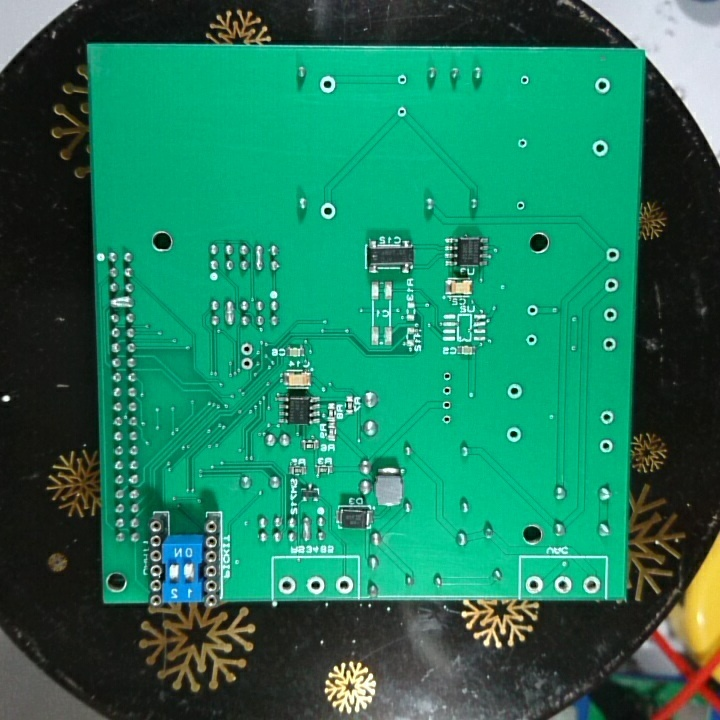F: (593, 75, 616, 100), (316, 74, 339, 98), (588, 138, 613, 160), (552, 573, 576, 595), (581, 572, 602, 597), (506, 380, 528, 403), (504, 423, 526, 446), (333, 573, 355, 596), (277, 574, 299, 596), (523, 572, 544, 595), (306, 574, 327, 597), (319, 200, 339, 223), (599, 406, 619, 428), (601, 333, 620, 356), (603, 246, 624, 266), (601, 275, 621, 296), (601, 304, 621, 325), (523, 301, 544, 321), (599, 436, 617, 457), (524, 331, 541, 351), (238, 340, 255, 358), (514, 134, 530, 153), (518, 72, 533, 91), (239, 356, 255, 372), (514, 198, 529, 215), (440, 383, 456, 398), (395, 103, 410, 118), (395, 73, 409, 89), (441, 369, 456, 383), (440, 410, 453, 426), (441, 398, 453, 413)
P: (107, 295, 137, 312), (300, 511, 314, 547), (252, 243, 267, 274), (224, 298, 236, 329)
